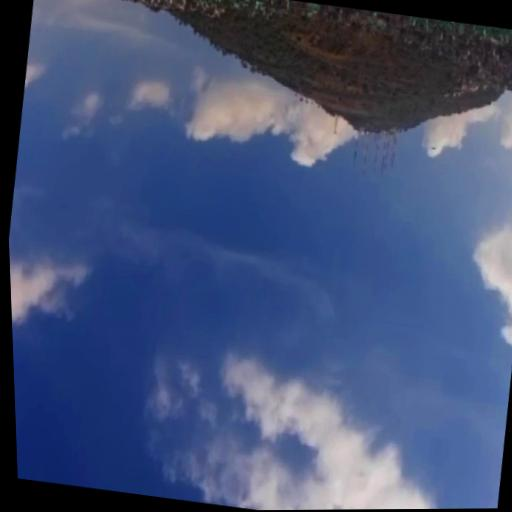drones: (429, 142, 441, 153)
